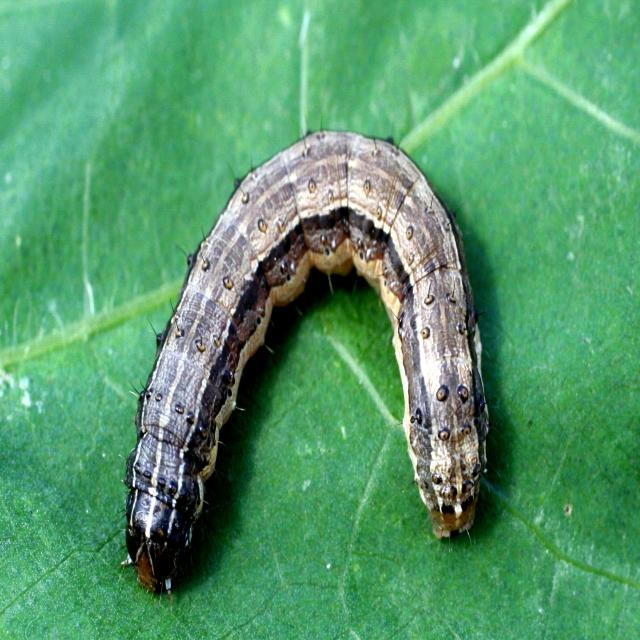Armyworm: (72, 86, 511, 610)
